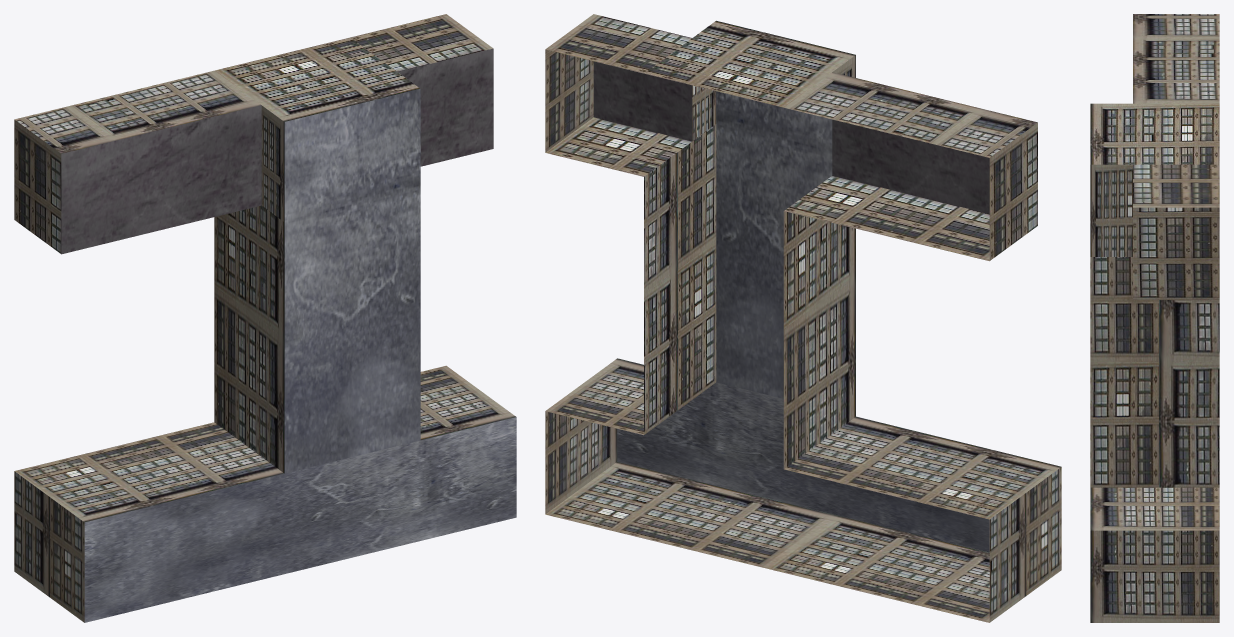
The model's file is urbanconc02b_wtf.obj.
3 renders of one model, left to right at view 1: azimuth 30°, elevation 25°; view 2: azimuth 150°, elevation 25°; view 3: azimuth 270°, elevation 25°, orthographic. The views are drawn at different scales.
Visible parts, largest first — view 1: group4, group3, group5; view 2: group3, group4, group5; view 3: group3.
Part boxes in pixels (<box>): group4: <box>84,89,516,622</box>; group3: <box>14,14,515,622</box>; group5: <box>61,48,493,254</box>; group3: <box>545,14,1061,622</box>; group4: <box>617,91,989,552</box>; group5: <box>593,61,989,213</box>; group3: <box>1090,14,1219,622</box>.
Size of the model in its own units: 660 by 660 by 186.
